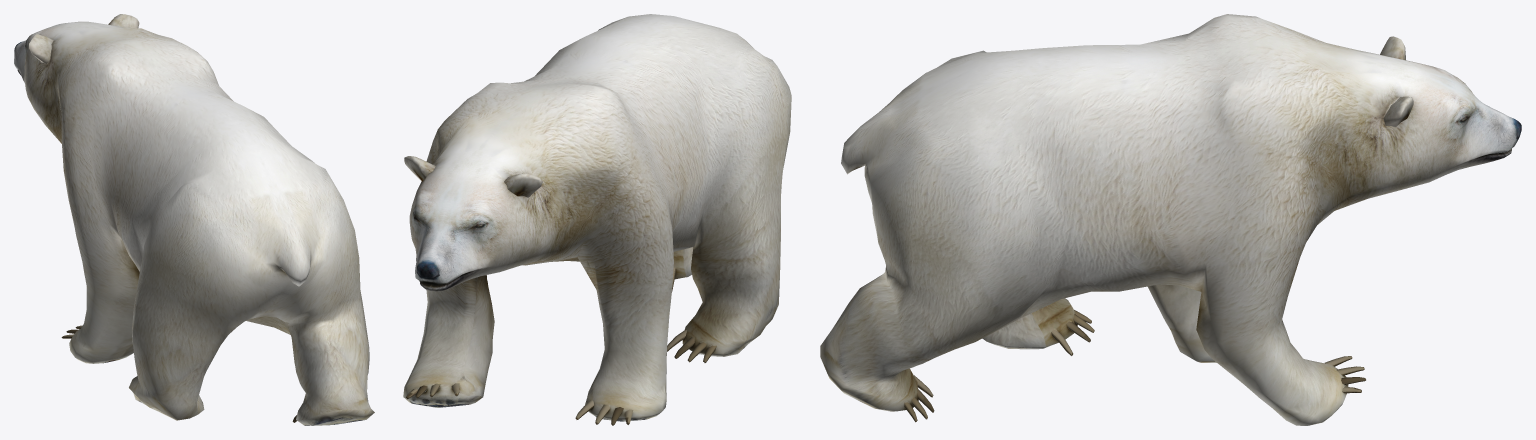
The model's file is BEAR-cleaned.fbx.
The picture shows the model from 3 angles, left to right: view 1: azimuth 30°, elevation 25°; view 2: azimuth 150°, elevation 25°; view 3: azimuth 270°, elevation 25°; orthographic projection. The views are drawn at different scales.
Parts seen in each view (by area): view 1: BEAR_only_obj_clean_tex:BEAR_only_obj1; view 2: BEAR_only_obj_clean_tex:BEAR_only_obj1; view 3: BEAR_only_obj_clean_tex:BEAR_only_obj1.
Part boxes in pixels (x1,y1,x2,y2): BEAR_only_obj_clean_tex:BEAR_only_obj1: [14, 14, 374, 425]; BEAR_only_obj_clean_tex:BEAR_only_obj1: [403, 14, 791, 425]; BEAR_only_obj_clean_tex:BEAR_only_obj1: [820, 14, 1521, 425].
Bounding box in the file's own units: 17.07 × 23.22 × 42.08.
1 material, 1 textured.
